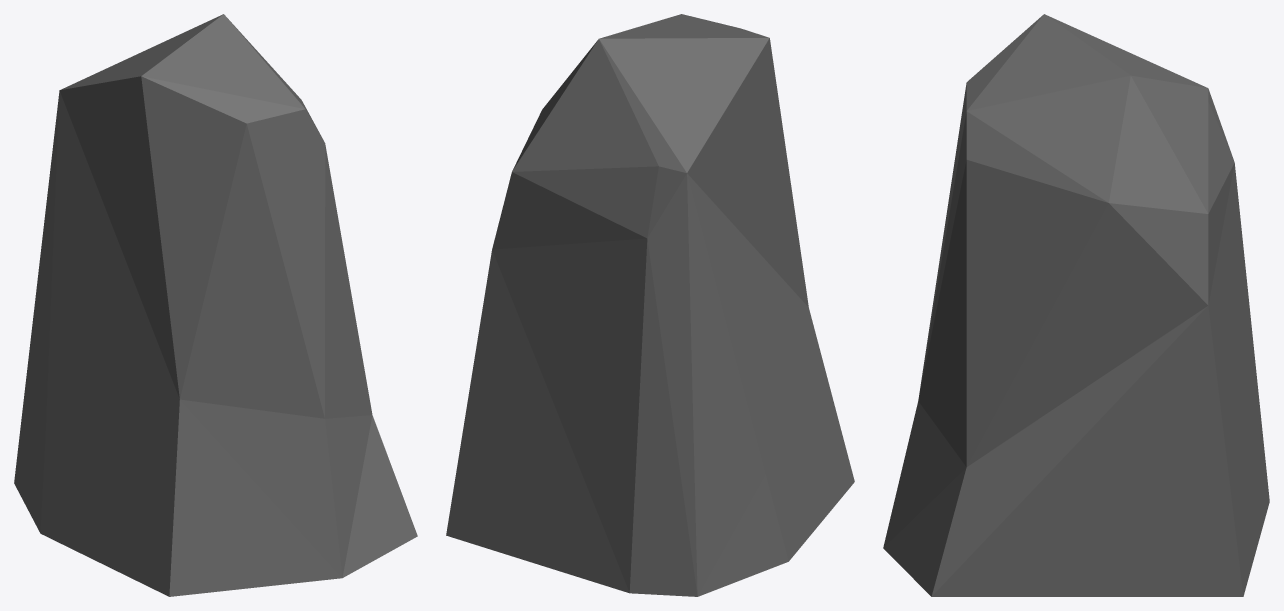
The model's file is Stone_A_16.FBX.
3 views of the same model, side by side, from view 1: azimuth 30°, elevation 25°; view 2: azimuth 150°, elevation 25°; view 3: azimuth 270°, elevation 25° (orthographic).
Visible parts, largest first — view 1: Stone_A_16; view 2: Stone_A_16; view 3: Stone_A_16.
Boxes of the visible parts, bbox=[...] form: Stone_A_16: bbox=[14, 14, 417, 596]; Stone_A_16: bbox=[446, 14, 854, 596]; Stone_A_16: bbox=[883, 14, 1269, 596].
Size of the model in its own units: 3.46 by 5.58 by 4.12.
